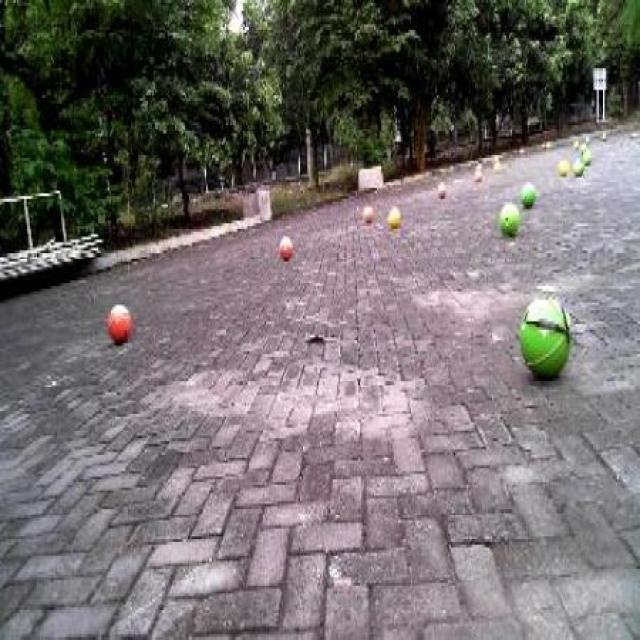buoy: (515, 284, 574, 382), (106, 300, 132, 350), (496, 197, 522, 241), (385, 202, 403, 230), (519, 178, 536, 206), (279, 233, 293, 260), (360, 204, 374, 224)
